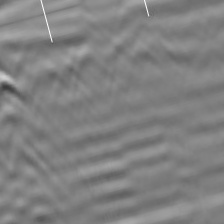Utility: (0, 65, 32, 123)
